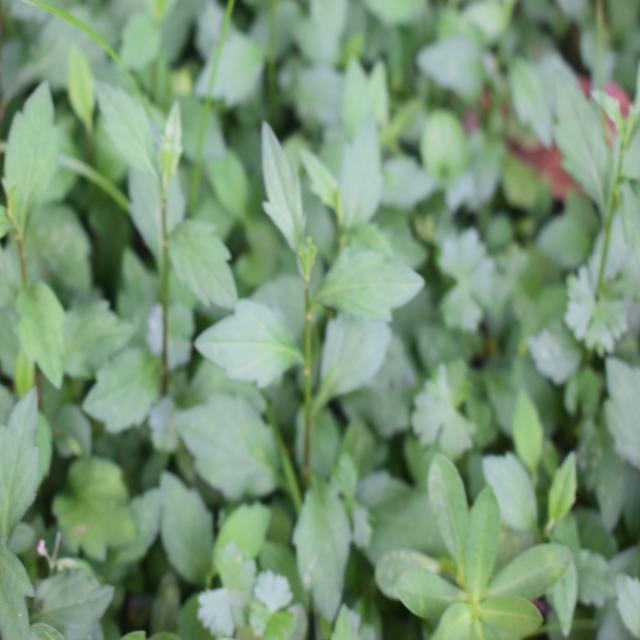Indian aster: (218, 138, 405, 568)
